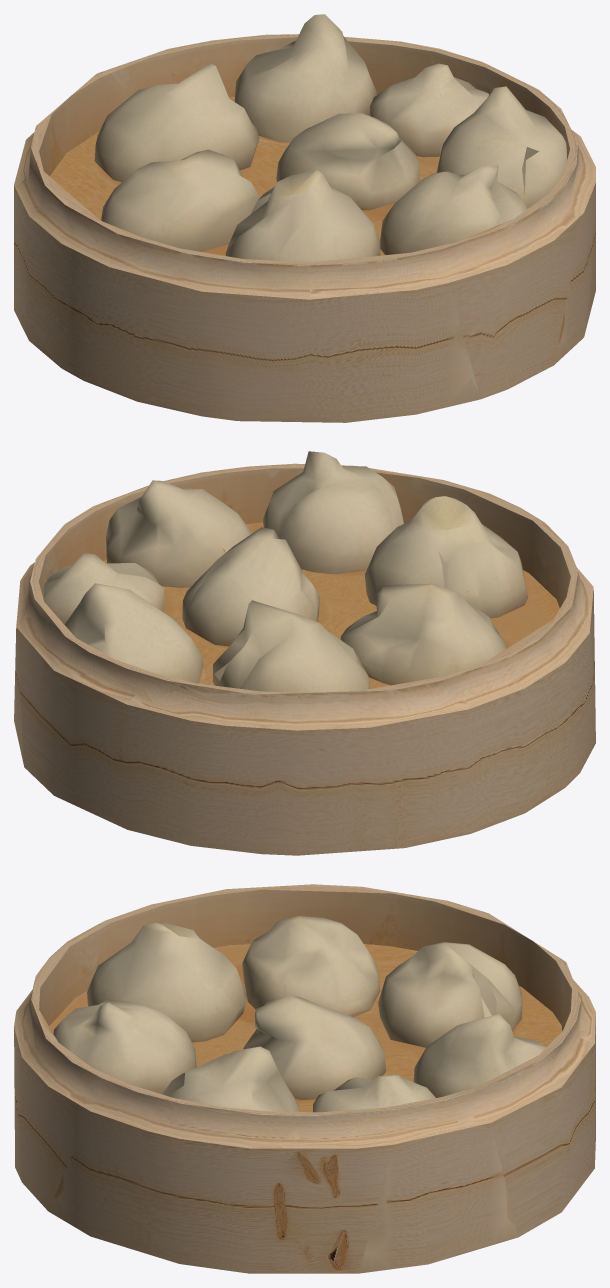
Rendered from vegetable03_M.FBX.
3 renders of one model, top to bottom at view 1: azimuth 30°, elevation 25°; view 2: azimuth 150°, elevation 25°; view 3: azimuth 270°, elevation 25°, orthographic.
Visible parts, largest first — view 1: tripo_node_ec6135b4; view 2: tripo_node_ec6135b4; view 3: tripo_node_ec6135b4.
Boxes of the visible parts, x1=… form: tripo_node_ec6135b4: x1=14, y1=14, x2=595, y2=422; tripo_node_ec6135b4: x1=14, y1=451, x2=595, y2=855; tripo_node_ec6135b4: x1=14, y1=884, x2=595, y2=1273.
Bounding box in the file's own units: 0.7684 × 0.2895 × 0.7729.
